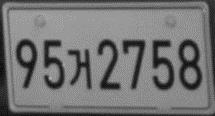2: (96, 38, 120, 90)
5: (42, 39, 65, 89), (151, 39, 174, 89)
7: (122, 39, 146, 89)
8: (178, 39, 202, 90)
9: (15, 38, 37, 89)
거: (67, 48, 92, 90)
